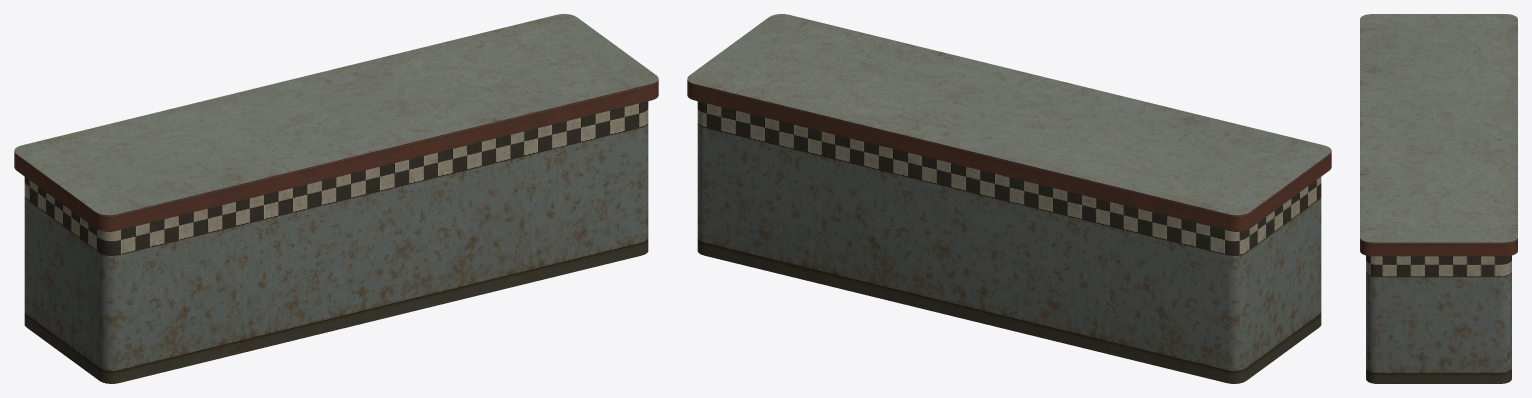
The model's file is RestaurantCounter.fbx.
3 views of the same model, side by side, from view 1: azimuth 30°, elevation 25°; view 2: azimuth 150°, elevation 25°; view 3: azimuth 270°, elevation 25° (orthographic). The views are drawn at different scales.
Visible parts, largest first — view 1: CounterDown, CounterUp; view 2: CounterDown, CounterUp; view 3: CounterUp, CounterDown.
Boxes of the visible parts, x1=… form: CounterDown: x1=24, y1=101, x2=648, y2=383; CounterUp: x1=14, y1=14, x2=658, y2=231; CounterDown: x1=697, y1=101, x2=1321, y2=383; CounterUp: x1=687, y1=14, x2=1331, y2=231; CounterUp: x1=1360, y1=14, x2=1517, y2=256; CounterDown: x1=1366, y1=255, x2=1511, y2=383.
Size of the model in its own units: 319 by 93.93 by 93.19.
